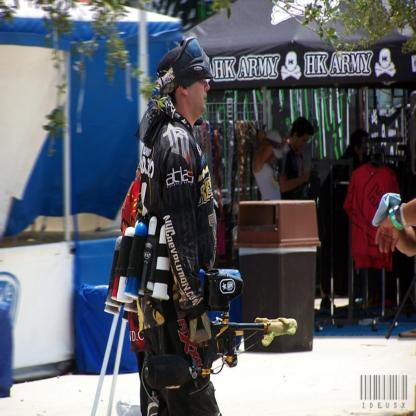Helmet: (157, 36, 223, 127)
